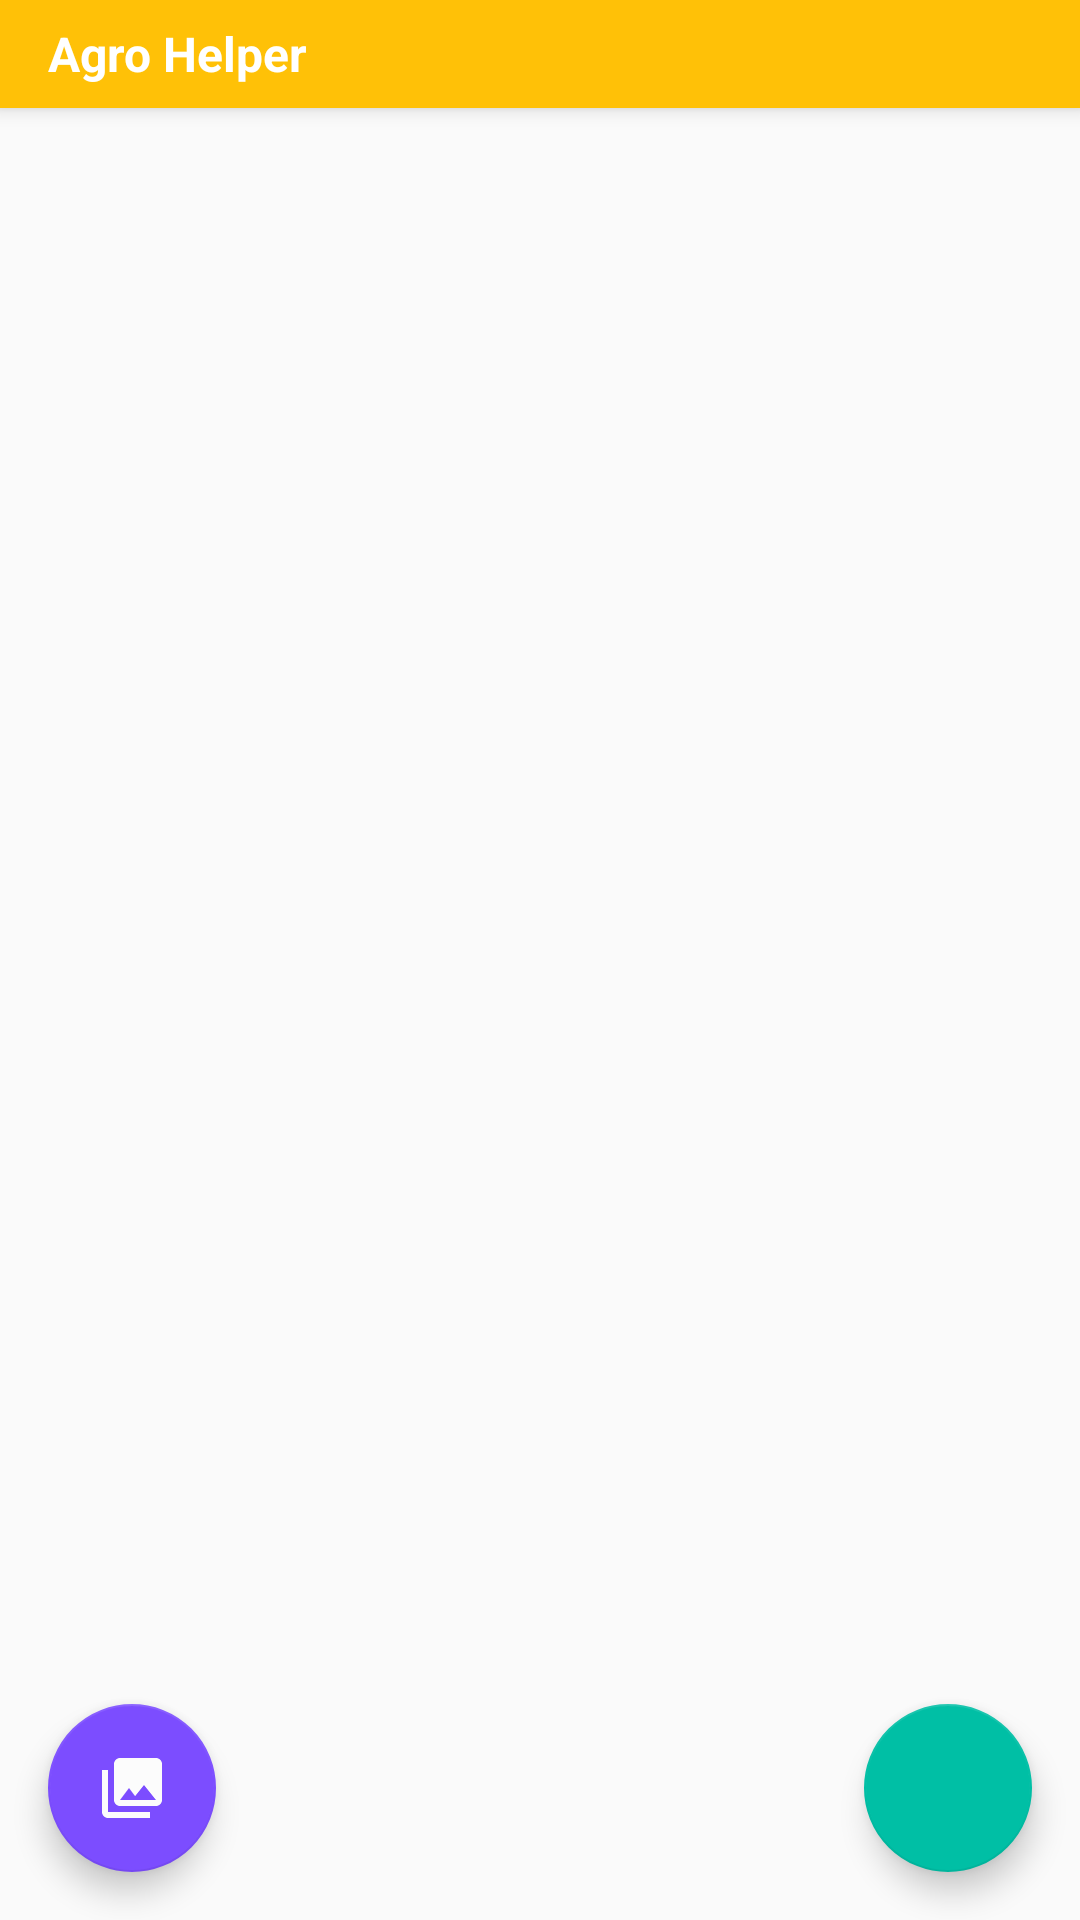

Where to tap for icons on this 1080 x 1920 app screen, as (x=x, y=y):
photo gallery: (x=132, y=1788)
